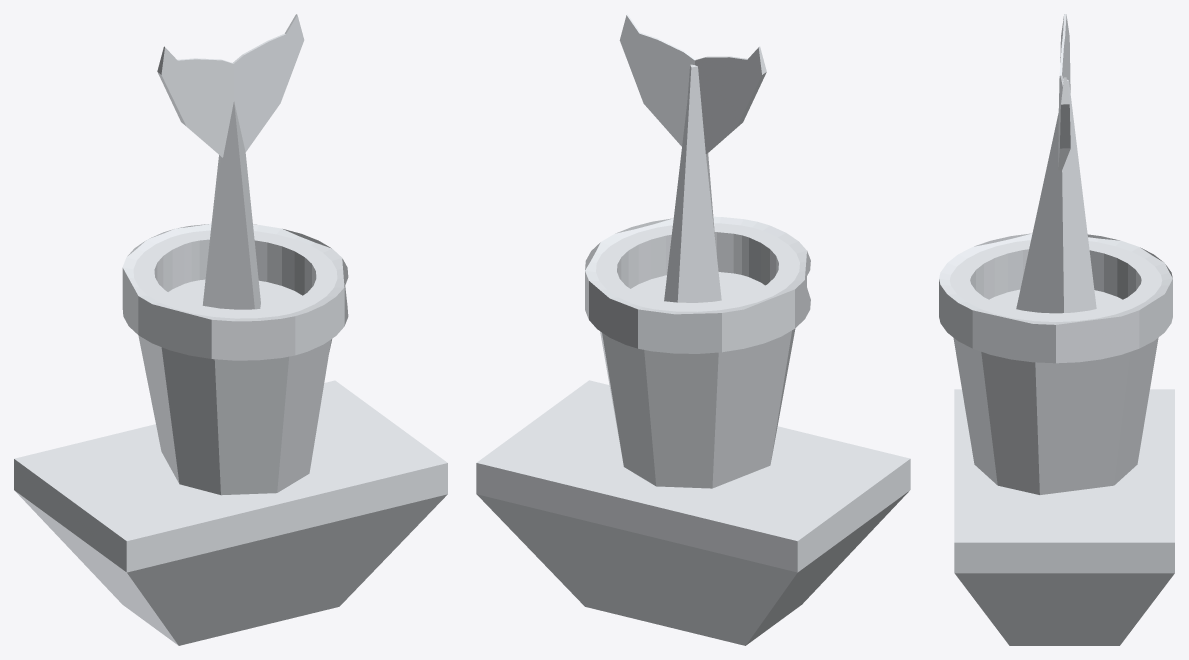
The model's file is fgr_fur_maceta.fbx.
3 views of the same model, side by side, from view 1: azimuth 30°, elevation 25°; view 2: azimuth 150°, elevation 25°; view 3: azimuth 270°, elevation 25° (orthographic). The views are drawn at different scales.
Visible parts, largest first — view 1: fgr_fur_maceta; view 2: fgr_fur_maceta; view 3: fgr_fur_maceta.
Boxes of the visible parts, box(x1,y1,x2,y2) form: fgr_fur_maceta: box(14, 14, 447, 645); fgr_fur_maceta: box(476, 14, 910, 645); fgr_fur_maceta: box(939, 14, 1174, 645).
Size of the model in its own units: 1165 by 1993 by 758.
Materials: 1 (1 with a texture image).
